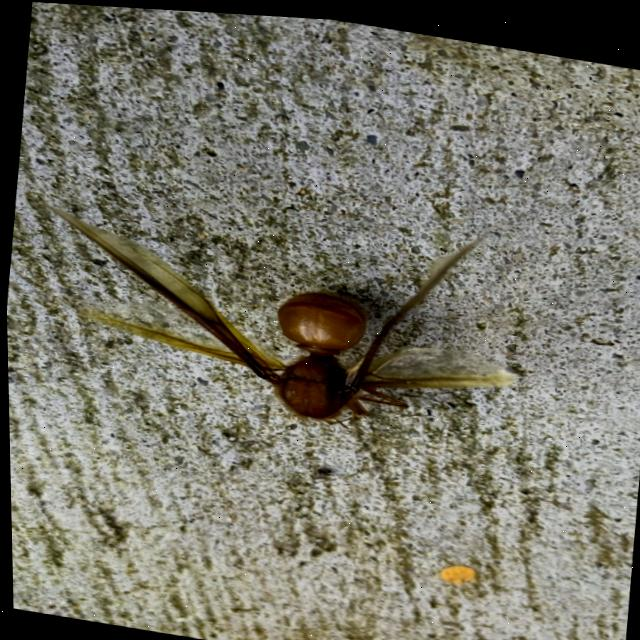Alive-Male-Alate: (20, 161, 533, 460)
